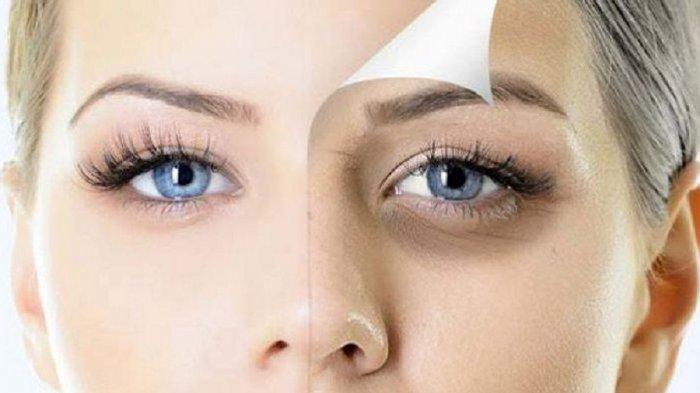Eyebags: (375, 178, 559, 266)
